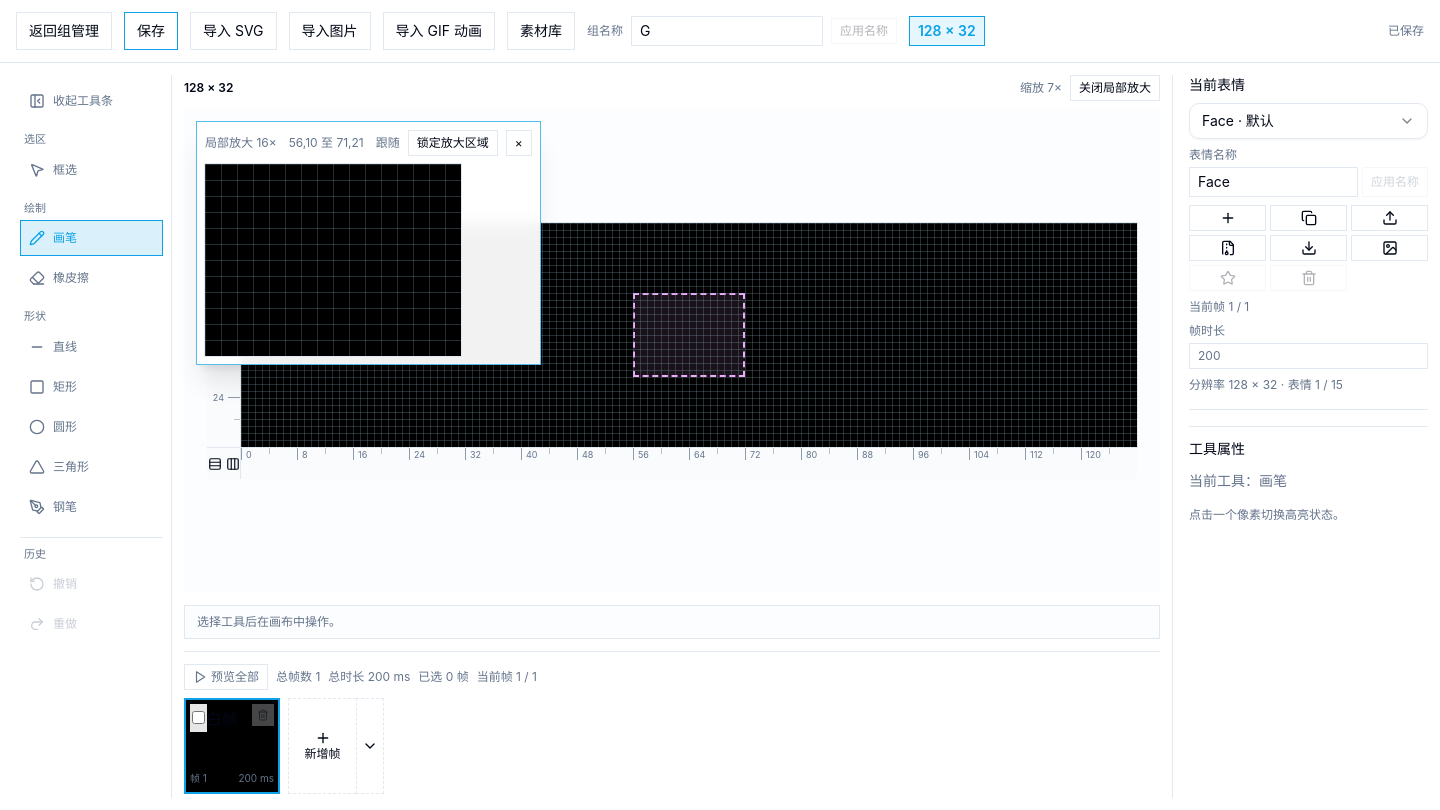
Test: adds and manages faces inside the current group
Click the button named "新表情": (1228, 218) [1189,205,1266,231]
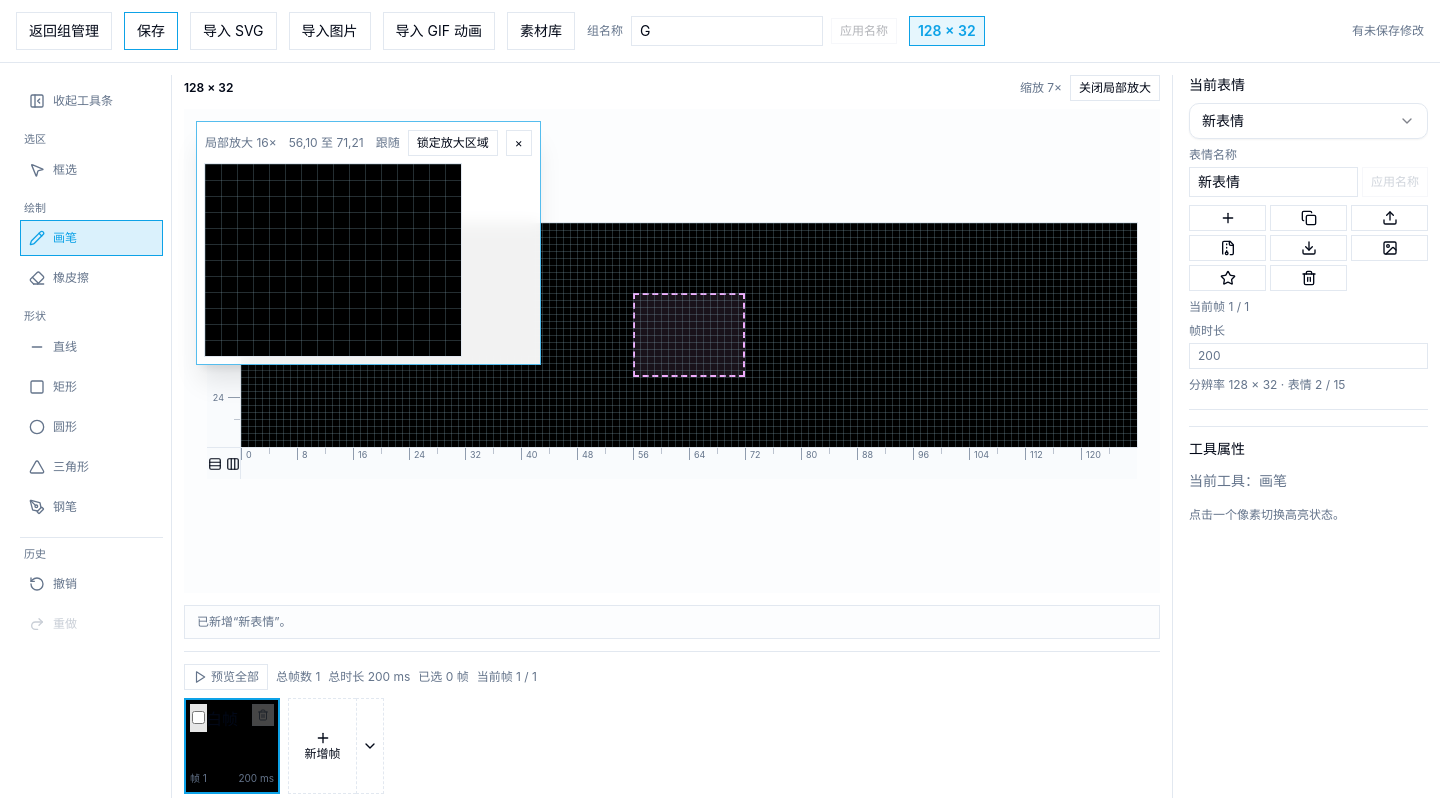
Now the text "新表情" is shown, box [1202,111,1244,131]
Now the field labelled "表情名称" holds "新表情", box [1189,167,1358,197]
Now the button named "设为默认表情" is enabled, box [1189,265,1266,291]
